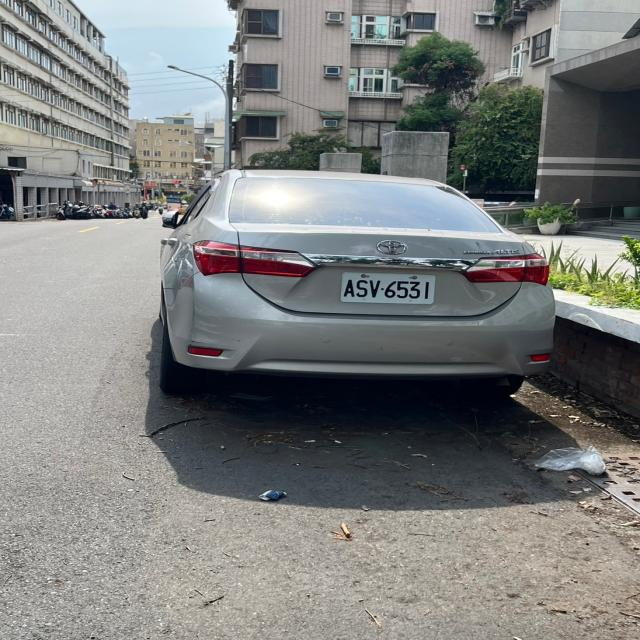license-plate: (332, 272, 452, 309)
